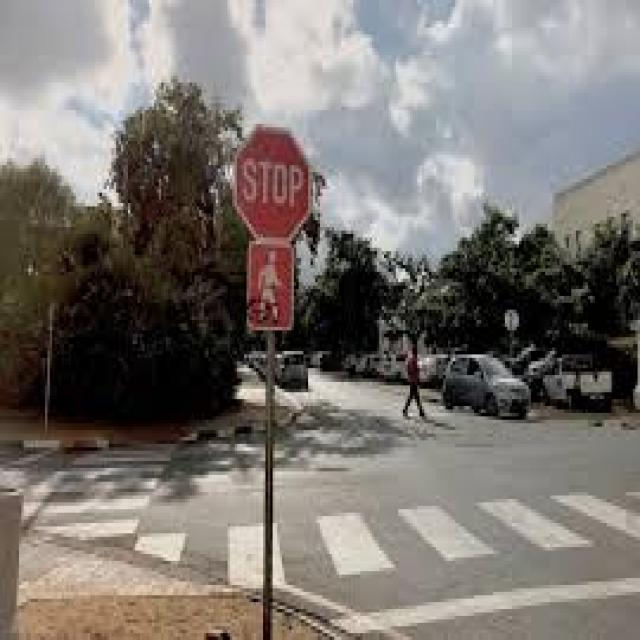stop-sign: (217, 122, 322, 242)
